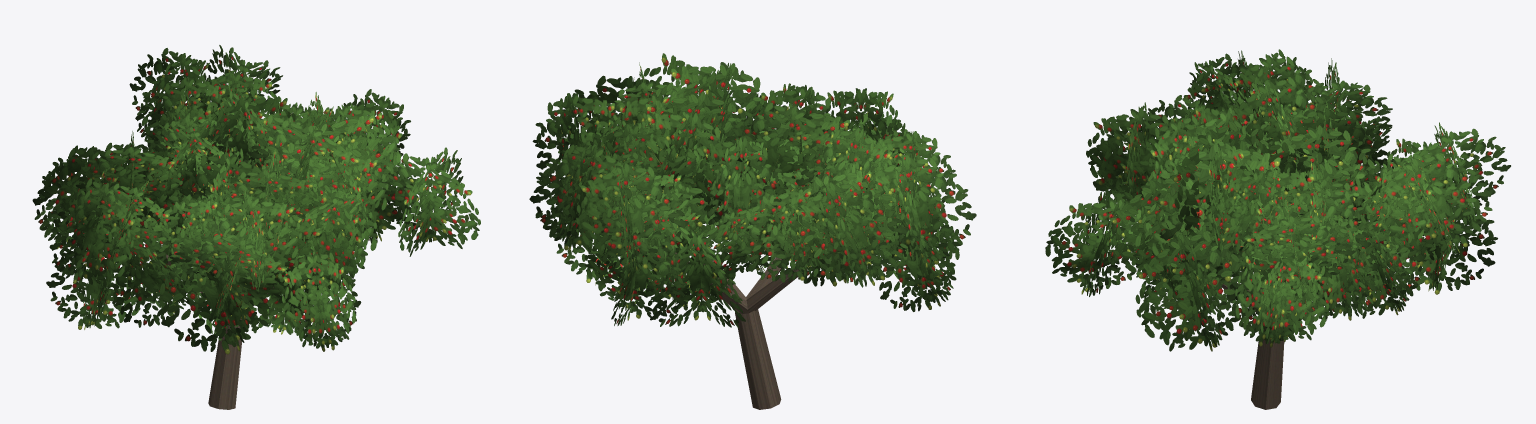
File: CITY_Tree_Manzano.fbx
3 views of the same model, side by side, from view 1: azimuth 30°, elevation 25°; view 2: azimuth 150°, elevation 25°; view 3: azimuth 270°, elevation 25° (orthographic). The views are drawn at different scales.
Parts seen in each view (by area): view 1: CITY_Tree_Manzano; view 2: CITY_Tree_Manzano; view 3: CITY_Tree_Manzano.
Boxes of the visible parts, <box> form: CITY_Tree_Manzano: <box>32,45,480,409</box>; CITY_Tree_Manzano: <box>529,53,976,409</box>; CITY_Tree_Manzano: <box>1045,49,1510,409</box>.
Size of the model in its own units: 6.73 by 4.69 by 6.31.
